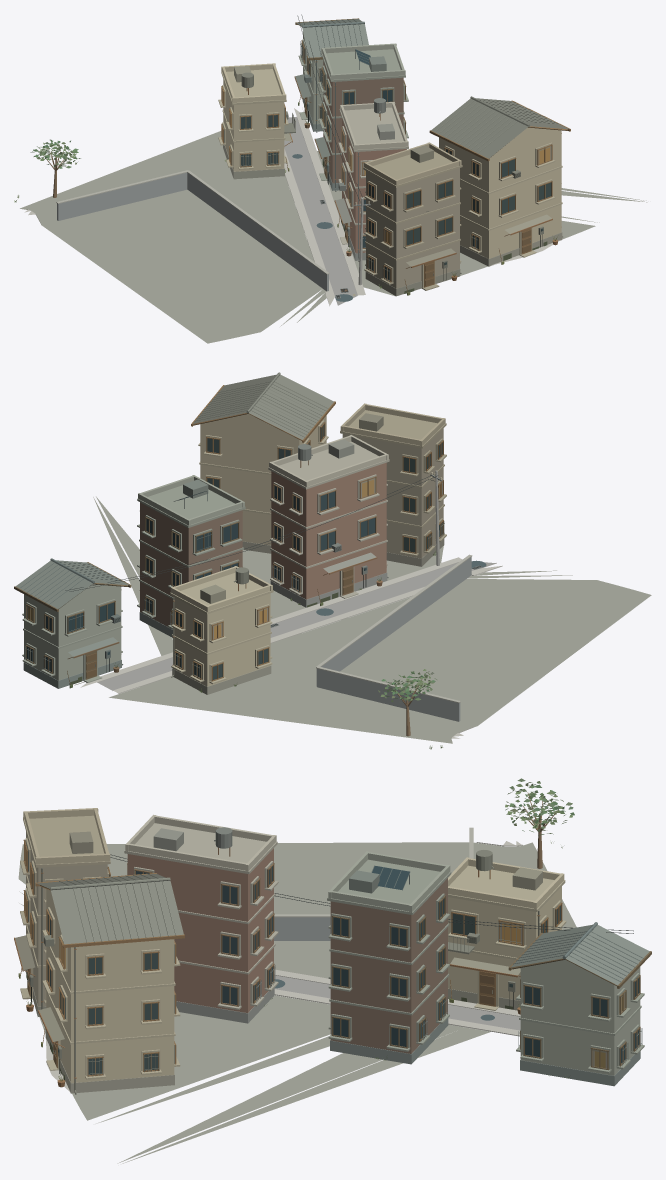
File: street_5_6.glb
The picture shows the model from 3 angles, top to bottom: view 1: azimuth 30°, elevation 25°; view 2: azimuth 150°, elevation 25°; view 3: azimuth 270°, elevation 25°; orthographic projection. The views are drawn at different scales.
Parts seen in each view (by area): view 1: ground.071, plaster.034, trim.034, graybrick.033, concrete.030, wood.034, roof_tile.025, roof_metal.034, brick.030, road.028, glass.034, paving.057 (+4 smaller); view 2: ground.071, plaster.034, trim.034, brick.030, graybrick.033, wood.034, roof_tile.025, roof_metal.034, glass.034, concrete.030, road.028, paving.057 (+3 smaller); view 3: plaster.034, ground.071, trim.034, brick.030, wood.034, roof_tile.025, roof_metal.034, glass.034, graybrick.033, metal.034, concrete.030, paving.057 (+5 smaller).
Part boxes in pixels (box(x1,y1,x2,y2)): ground.071: box(20, 131, 647, 343); plaster.034: box(221, 32, 561, 258); trim.034: box(56, 39, 562, 290); graybrick.033: box(57, 98, 562, 296); concrete.030: box(358, 168, 459, 288); wood.034: box(44, 18, 570, 292); roof_tile.025: box(302, 21, 568, 158); roof_metal.034: box(234, 19, 551, 266); brick.030: box(323, 61, 406, 253); road.028: box(284, 117, 357, 305); glass.034: box(222, 41, 551, 280); paving.057: box(24, 108, 561, 305); ground.071: box(93, 496, 651, 743); plaster.034: box(24, 403, 445, 686); trim.034: box(22, 410, 472, 703); brick.030: box(140, 462, 386, 629); graybrick.033: box(23, 539, 471, 721); wood.034: box(14, 385, 443, 736); roof_tile.025: box(50, 372, 333, 583); roof_metal.034: box(16, 413, 383, 656); glass.034: box(27, 423, 442, 679); concrete.030: box(342, 428, 443, 565); road.028: box(98, 562, 495, 690); paving.057: box(74, 557, 502, 738); plaster.034: box(23, 808, 640, 1083); ground.071: box(18, 842, 576, 1163); trim.034: box(20, 815, 644, 1079); brick.030: box(127, 848, 447, 1053); wood.034: box(20, 792, 651, 1076); roof_tile.025: box(37, 873, 597, 959); roof_metal.034: box(15, 828, 649, 1041); glass.034: box(25, 840, 638, 1074); graybrick.033: box(25, 917, 640, 1093); metal.034: box(27, 827, 643, 1094); concrete.030: box(26, 831, 107, 1006); paving.057: box(46, 841, 522, 1092).
Size of the model in its own units: 43.76 by 11.32 by 36.42.
